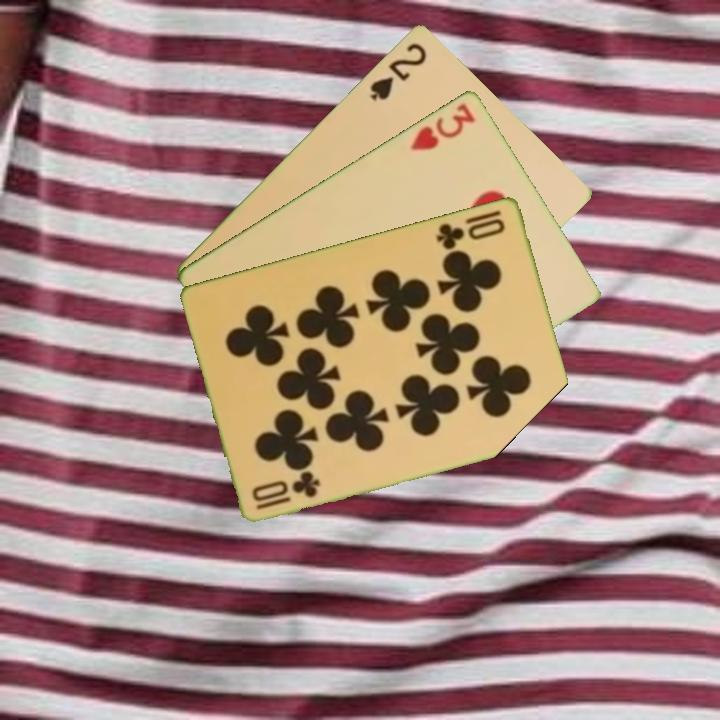10c: (248, 468, 324, 512), (432, 214, 508, 252)
2s: (366, 38, 430, 103)
3h: (406, 98, 478, 153)
